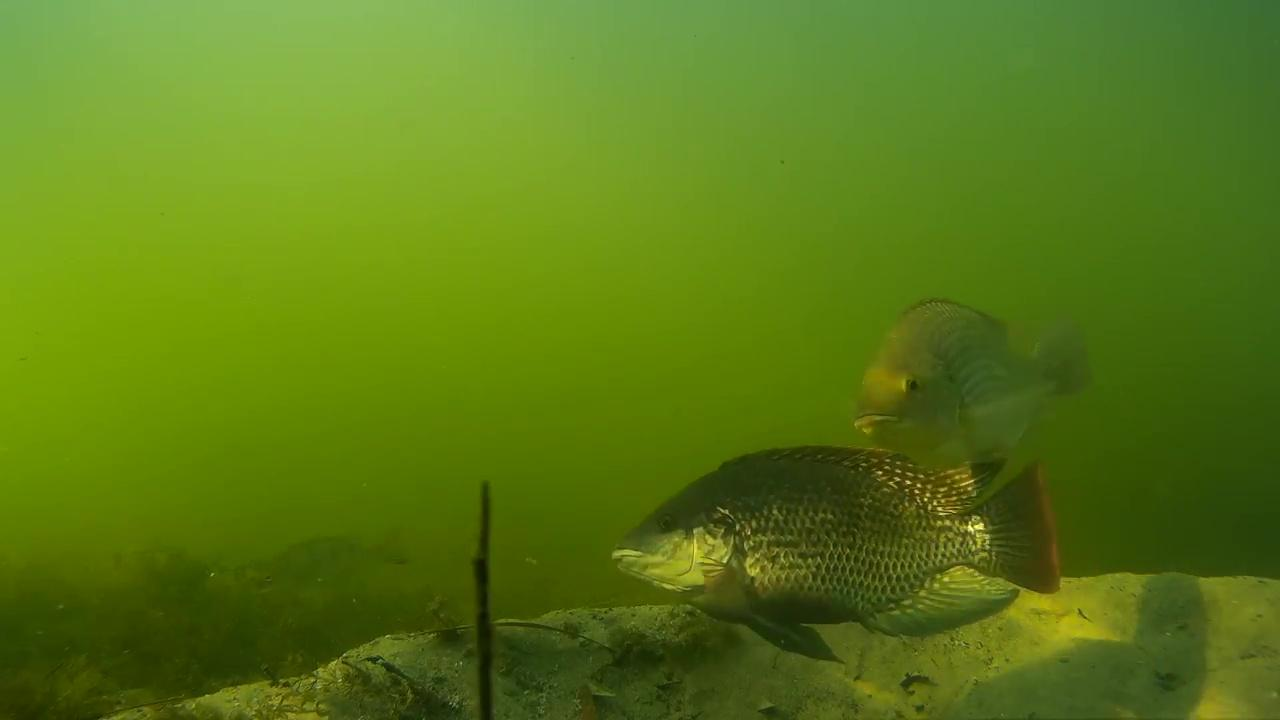Tilapia: (610, 444, 1069, 684), (853, 288, 1092, 454), (249, 524, 402, 604)
